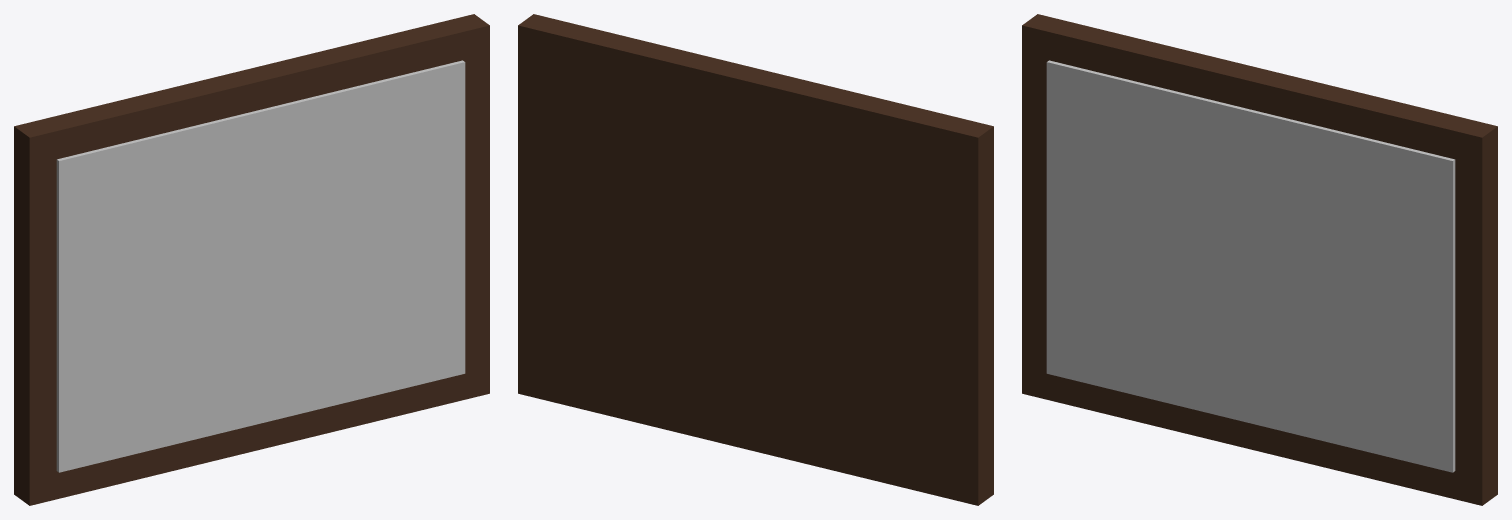
Rendered from photo_ellis.glb.
3 views of the same model, side by side, from view 1: azimuth 30°, elevation 25°; view 2: azimuth 150°, elevation 25°; view 3: azimuth 330°, elevation 25° (orthographic).
Visible parts, largest first — view 1: picture, frame; view 2: frame; view 3: picture, frame.
Boxes of the visible parts, box(x1,y1,x2,y2) form: picture: box(56, 60, 465, 472); frame: box(14, 14, 489, 505); frame: box(518, 14, 993, 505); picture: box(1046, 60, 1455, 472); frame: box(1022, 14, 1497, 505).
Bounding box in the file's own units: 0.34 × 0.26 × 0.023.
